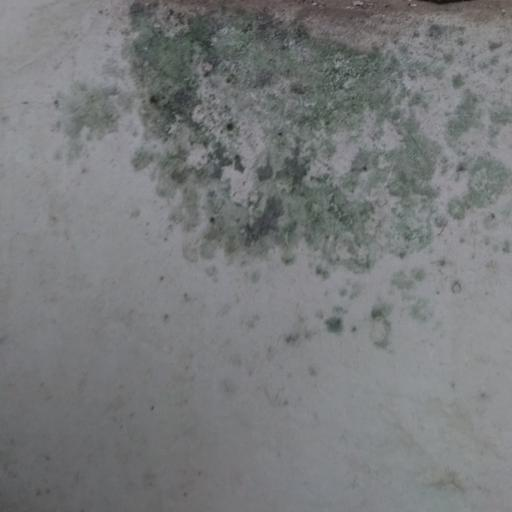algae: (65, 0, 512, 342)
